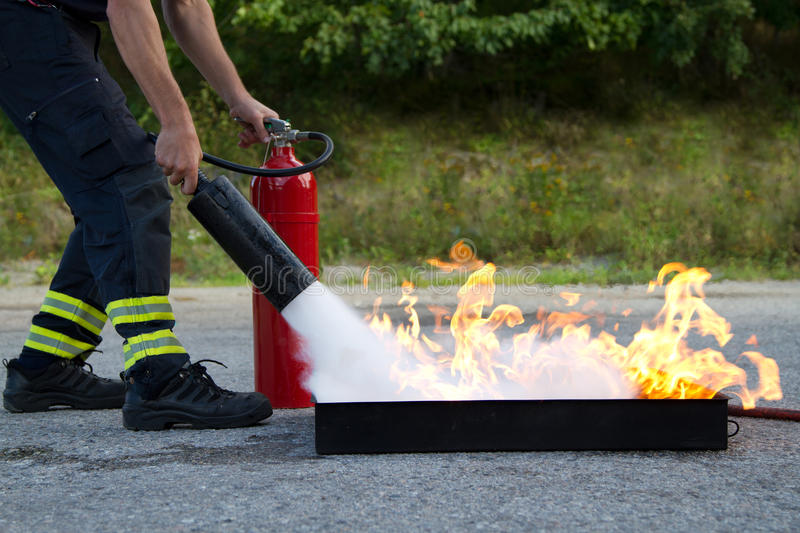fire_extinguisher: (234, 116, 334, 409)
